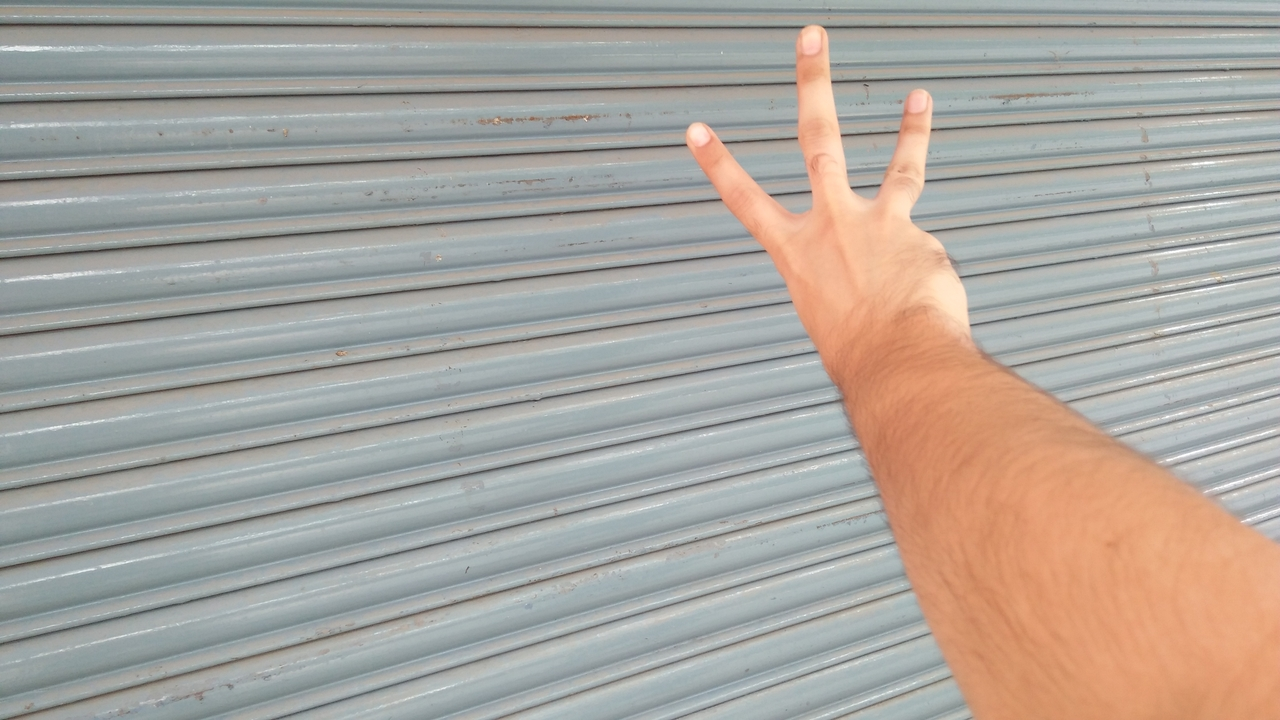fingertip: (676, 108, 734, 160), (792, 14, 840, 58), (898, 76, 944, 116)
